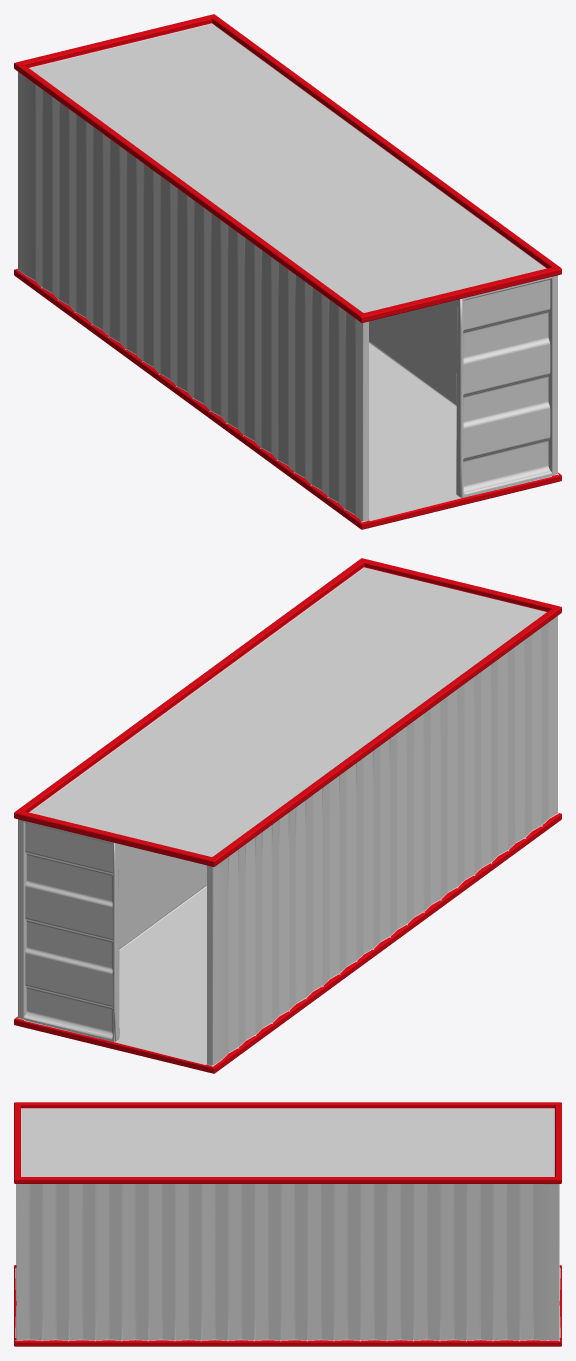
File: ShippingContainerOpen.fbx
3 renders of one model, top to bottom at view 1: azimuth 30°, elevation 25°; view 2: azimuth 150°, elevation 25°; view 3: azimuth 270°, elevation 25°, orthographic. The views are drawn at different scales.
Parts seen in each view (by area): view 1: ShippingContainerOpen, ShippingContainerOpen.001; view 2: ShippingContainerOpen, ShippingContainerOpen.002; view 3: ShippingContainerOpen, ShippingContainerOpen.002, ShippingContainerOpen.001.
Boxes of the visible parts, left/top/right/bottom form: ShippingContainerOpen: left=14, top=14, right=561, bottom=529; ShippingContainerOpen.001: left=456, top=277, right=556, bottom=497; ShippingContainerOpen: left=14, top=558, right=561, bottom=1073; ShippingContainerOpen.002: left=18, top=820, right=119, bottom=1041; ShippingContainerOpen: left=14, top=1102, right=561, bottom=1346; ShippingContainerOpen.002: left=553, top=1184, right=558, bottom=1339; ShippingContainerOpen.001: left=18, top=1185, right=22, bottom=1314.
Bounding box in the file's own units: 400 × 405 × 1200.
